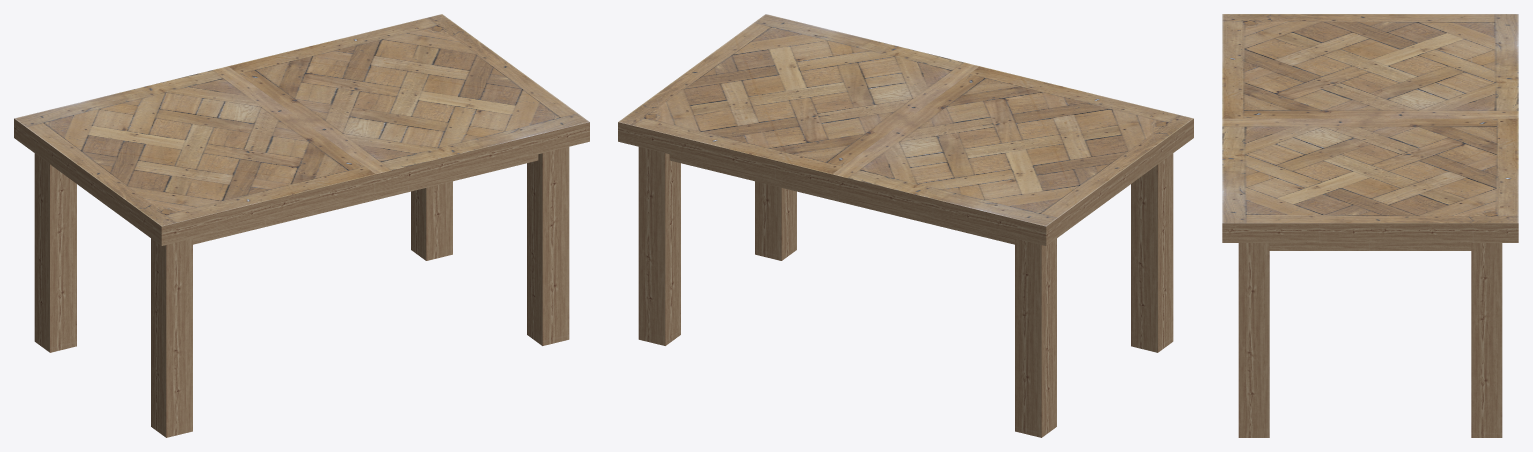
File: office_table.dae
3 views of the same model, side by side, from view 1: azimuth 30°, elevation 25°; view 2: azimuth 150°, elevation 25°; view 3: azimuth 270°, elevation 25° (orthographic).
Parts seen in each view (by area): view 1: Table; view 2: Table; view 3: Table.
Part boxes in pixels (bbox=[...]): Table: bbox=[14, 14, 589, 437]; Table: bbox=[618, 14, 1193, 437]; Table: bbox=[1222, 14, 1518, 437].
Bounding box in the file's own units: 156 × 93.37 × 76.8.
